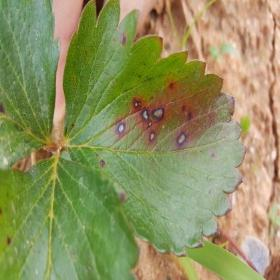Leaf Spot: (62, 0, 248, 257), (0, 156, 141, 279)
